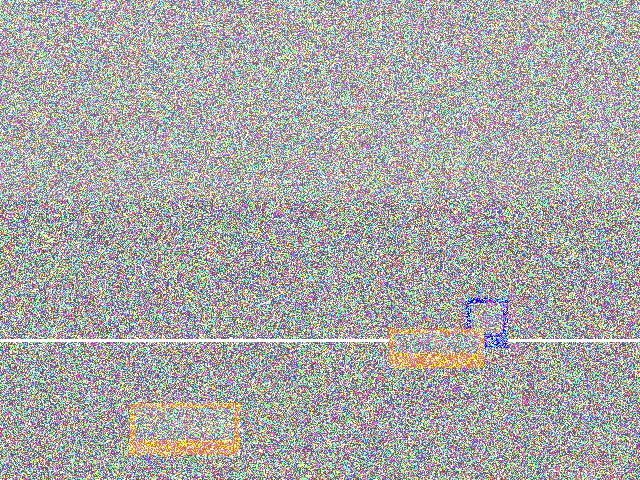car: (107, 266, 191, 358)
